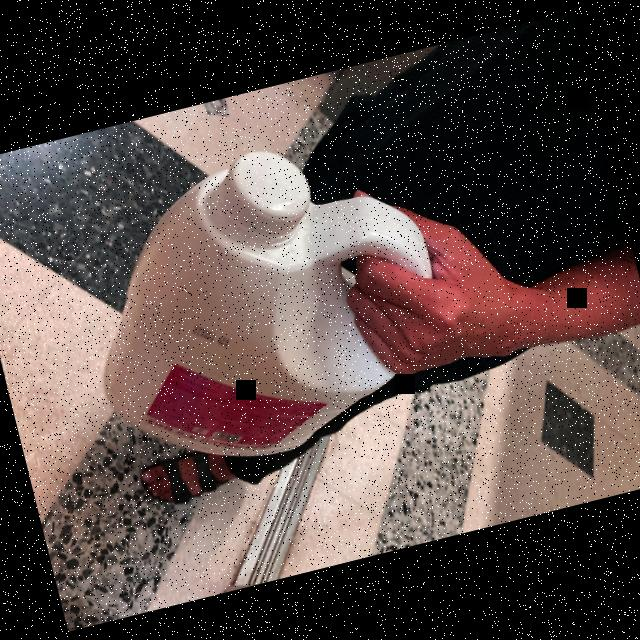chemical_plastic_gallon: (55, 112, 468, 490)
